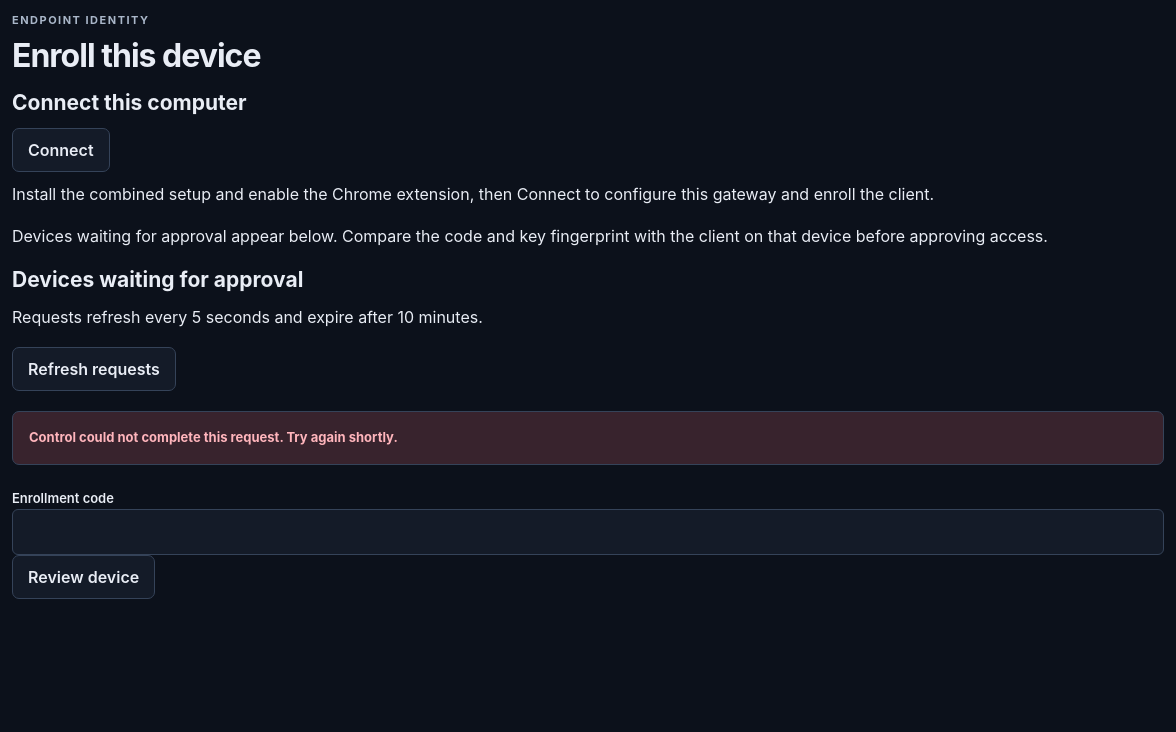
Scenario: Endpoint enrollment › refreshes requests and clears list failures without approving any device
Expected: the message "Control could not complete this request. Try again shortly." is shown, x1=12 y1=412 x2=1164 y2=465
Click the button "Refresh requests" at (94, 370), box x1=12 y1=348 x2=176 y2=392
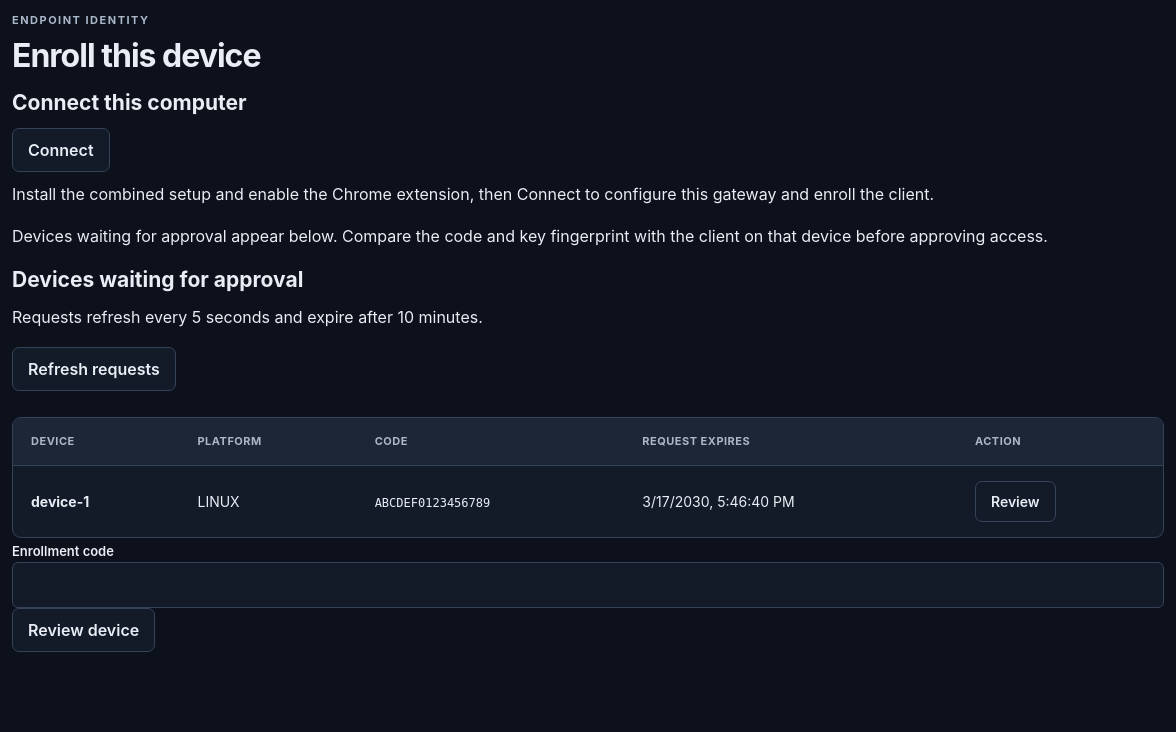
Expected: the button with aria-label "Review device-1" is shown, x1=975 y1=481 x2=1056 y2=522
Expected: the message "Control could not complete this request. Try again shortly." is gone
